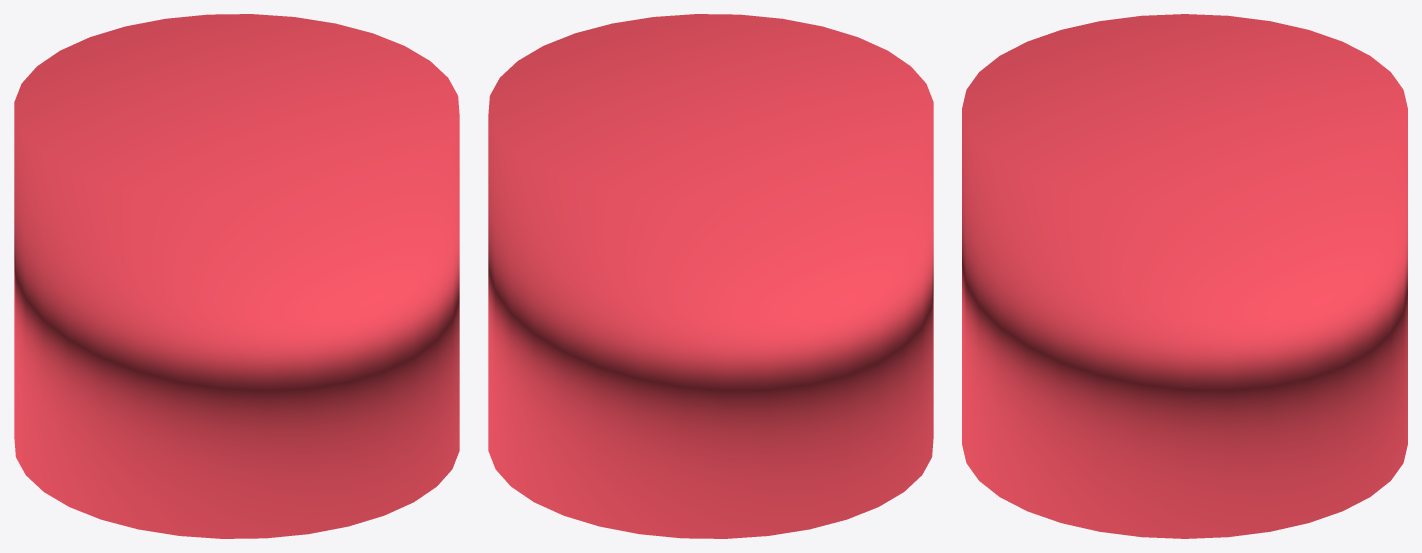
Rendered from SEDAN_12V_Battery_Terminal_Pos.glb.
3 renders of one model, left to right at view 1: azimuth 30°, elevation 25°; view 2: azimuth 150°, elevation 25°; view 3: azimuth 270°, elevation 25°, orthographic.
Visible parts, largest first — view 1: SEDAN_12V_Battery_Terminal_Pos; view 2: SEDAN_12V_Battery_Terminal_Pos; view 3: SEDAN_12V_Battery_Terminal_Pos.
Boxes of the visible parts, left/top/right/bottom form: SEDAN_12V_Battery_Terminal_Pos: left=14, top=14, right=459, bottom=538; SEDAN_12V_Battery_Terminal_Pos: left=488, top=14, right=933, bottom=538; SEDAN_12V_Battery_Terminal_Pos: left=962, top=14, right=1407, bottom=538.
Bounding box in the file's own units: 0.024 × 0.02 × 0.024.
